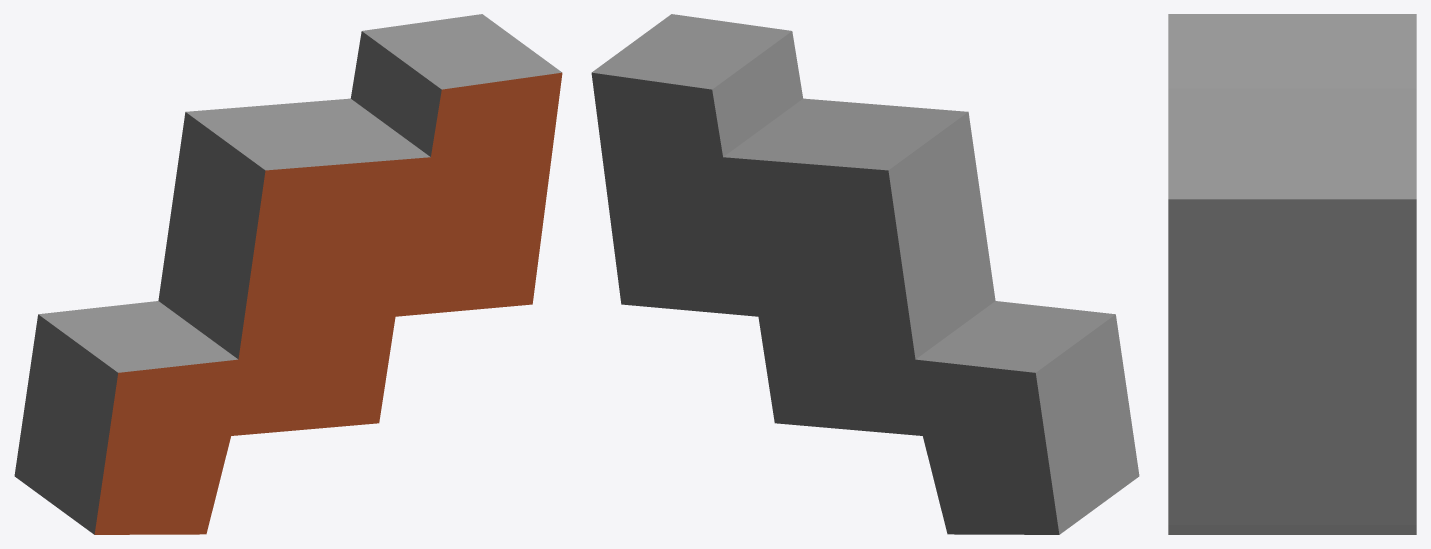
File: construction_5501_assumed_A_Casa_h6m.obj
3 views of the same model, side by side, from view 1: azimuth 30°, elevation 25°; view 2: azimuth 150°, elevation 25°; view 3: azimuth 270°, elevation 25° (orthographic). The views are drawn at different scales.
Parts seen in each view (by area): view 1: construction_5501_assumed_A_Casa; view 2: construction_5501_assumed_A_Casa; view 3: construction_5501_assumed_A_Casa.
Part boxes in pixels (box(x1,y1,x2,y2)): construction_5501_assumed_A_Casa: box(14, 14, 562, 534); construction_5501_assumed_A_Casa: box(591, 14, 1139, 534); construction_5501_assumed_A_Casa: box(1168, 14, 1416, 534).
Bounding box in the file's own units: 20.23 × 16.01 × 6.
